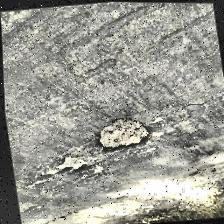pothole: (91, 112, 151, 154), (36, 149, 88, 177)
